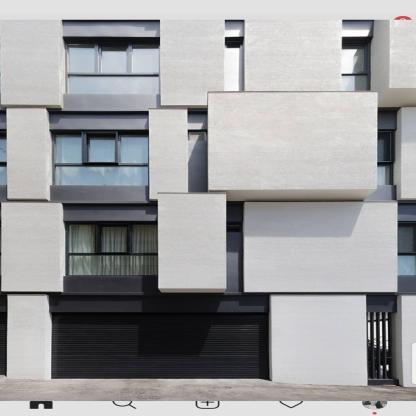Building Outline: (0, 19, 416, 386)
Door: (52, 312, 269, 379)
Facade: (0, 19, 416, 386)
Floor: (0, 204, 416, 292), (0, 111, 416, 197)
Floor Slab: (0, 292, 416, 298), (0, 197, 416, 203), (0, 105, 416, 111)
Ground Floor: (0, 298, 416, 386)
Top Floor: (0, 19, 416, 105)
Window: (53, 163, 149, 186), (66, 253, 158, 275), (367, 312, 396, 379), (65, 75, 160, 94), (96, 42, 129, 75), (342, 37, 371, 73), (52, 131, 84, 163), (116, 131, 148, 163), (84, 131, 116, 163), (97, 221, 129, 253), (129, 42, 160, 75), (65, 42, 96, 75), (66, 221, 97, 253), (130, 221, 158, 253), (373, 129, 395, 162), (397, 221, 416, 254), (342, 73, 371, 91), (373, 162, 395, 185), (397, 254, 416, 276), (188, 130, 207, 141), (225, 37, 243, 48), (227, 222, 244, 233)
